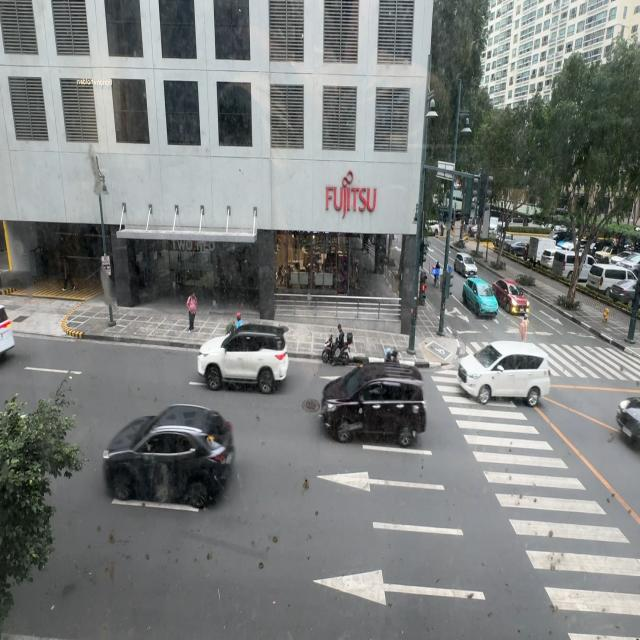crossing: (519, 314, 529, 341)
pedestrain: (187, 292, 197, 334)
